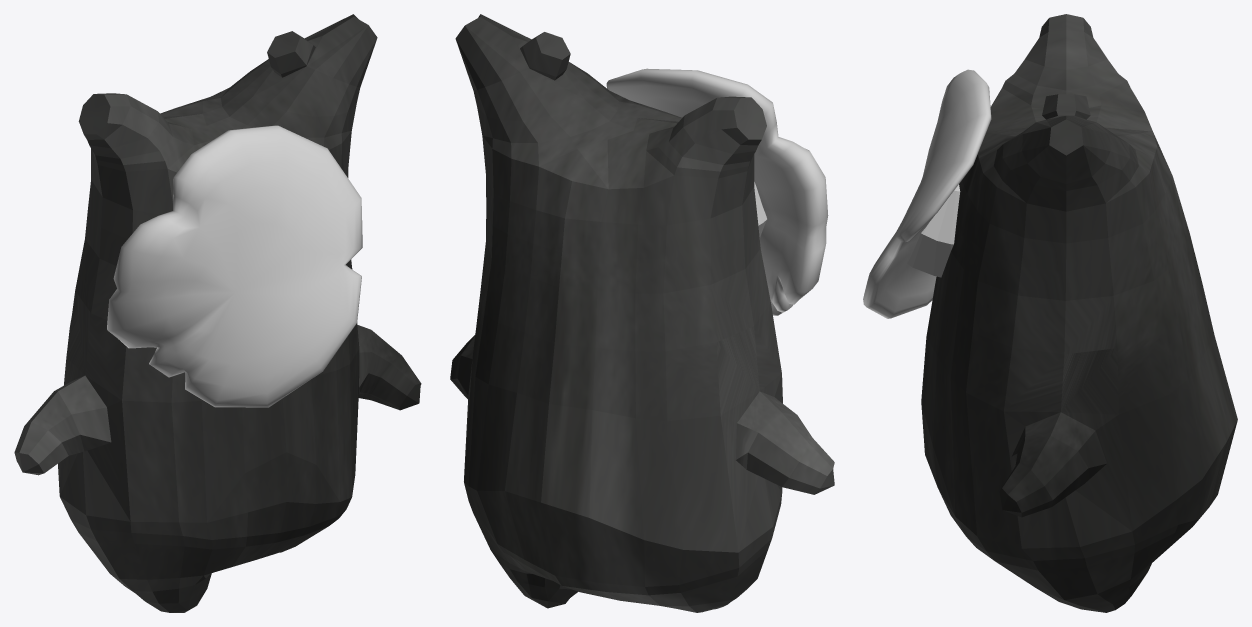
The model's file is frame_0015.obj.
3 views of the same model, side by side, from view 1: azimuth 30°, elevation 25°; view 2: azimuth 150°, elevation 25°; view 3: azimuth 270°, elevation 25° (orthographic). The views are drawn at different scales.
Parts seen in each view (by area): view 1: korok, leaf; view 2: korok, leaf; view 3: korok, leaf, nose.
Boxes of the visible parts, x1,y1,x2,y2 form: korok: (14, 14, 421, 612); leaf: (107, 125, 362, 407); korok: (450, 14, 834, 612); leaf: (606, 68, 828, 315); korok: (921, 14, 1237, 612); leaf: (863, 69, 991, 318); nose: (907, 184, 960, 277).
Bounding box in the file's own units: 1.62 × 2.17 × 1.38.
